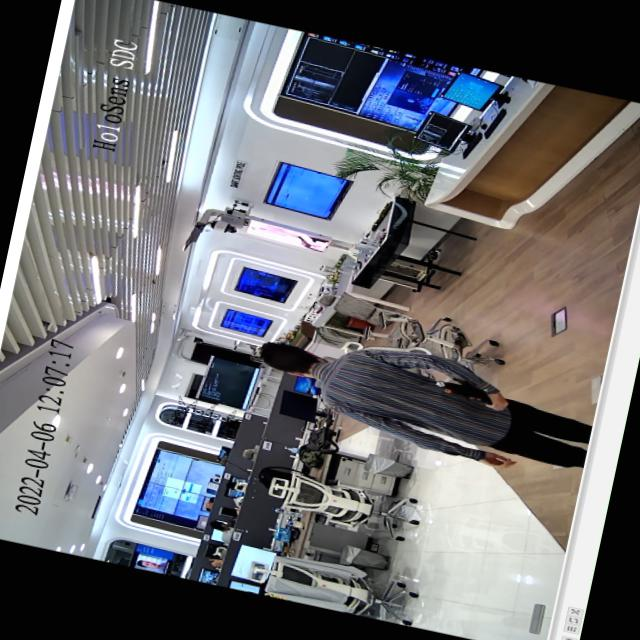long weapon: (410, 363, 548, 418)
